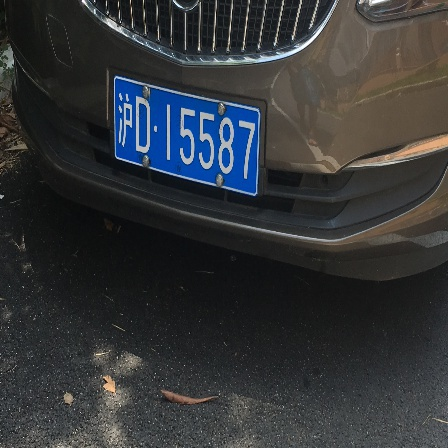plate: (106, 68, 268, 202)
